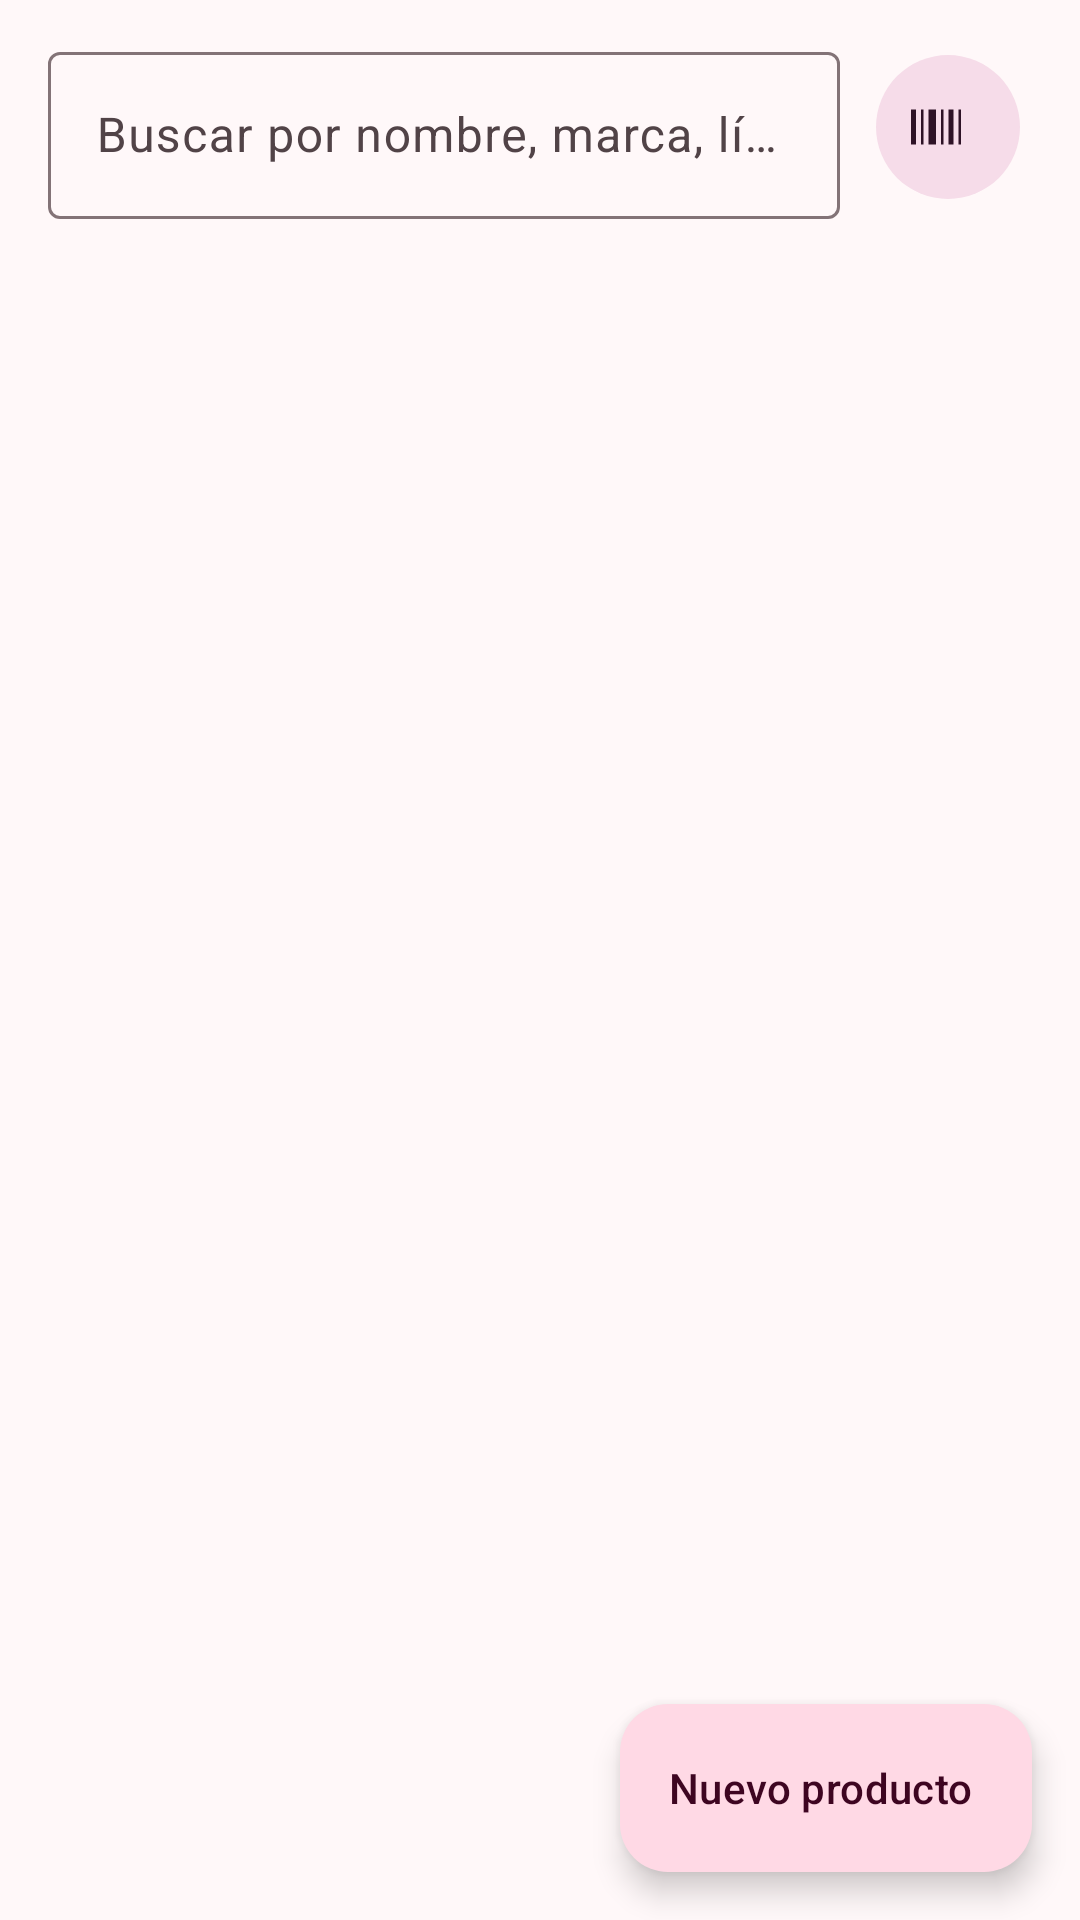

Icon bounding boxes for this 1080px×1920px phone screenshot, format {"x1": x1, "y1": y1, "x2": x2, "y2": y2}:
Escanear código de barras: {"x1": 876, "y1": 55, "x2": 1020, "y2": 199}
